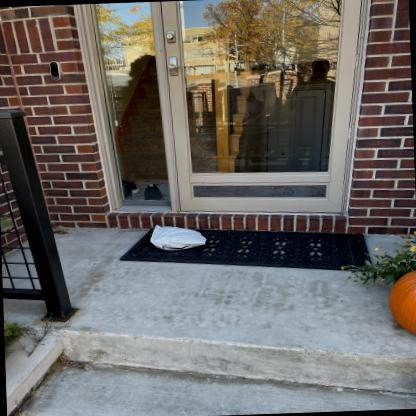plastic_bag: (149, 224, 207, 251)
